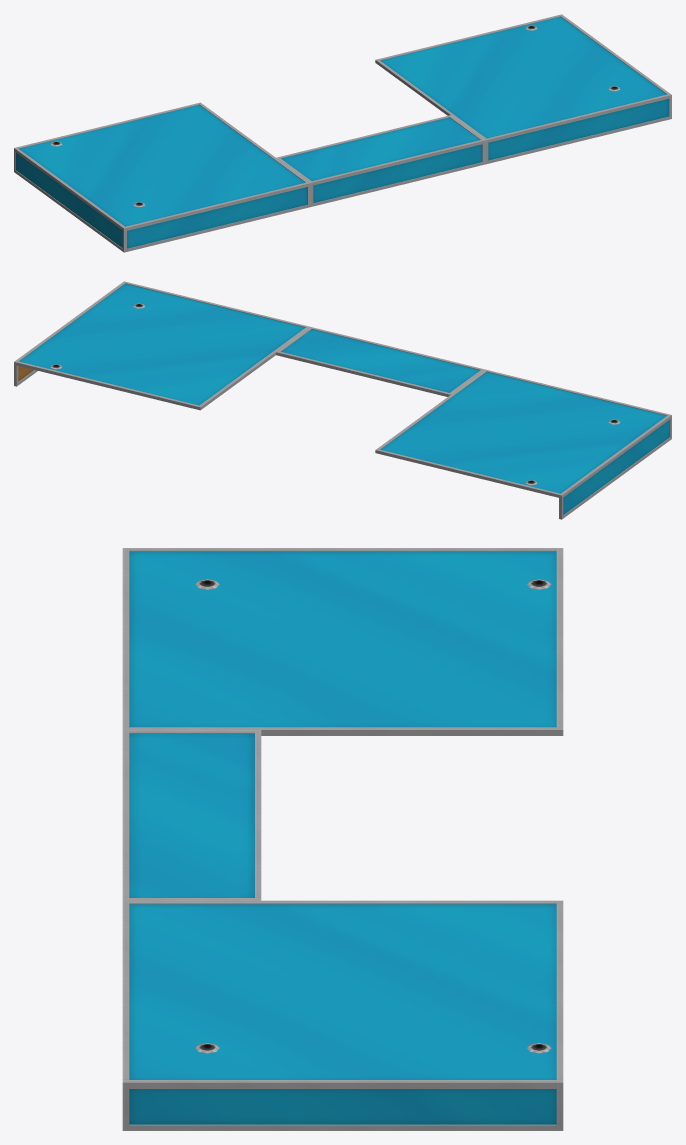
The model's file is jsf_4P_s03_c02_t02_DX.fbx.
3 renders of one model, top to bottom at view 1: azimuth 30°, elevation 25°; view 2: azimuth 150°, elevation 25°; view 3: azimuth 270°, elevation 25°, orthographic. The views are drawn at different scales.
Visible parts, largest first — view 1: jsf_4P_s03_c02_t02_DX; view 2: jsf_4P_s03_c02_t02_DX; view 3: jsf_4P_s03_c02_t02_DX.
Part boxes in pixels (x1,y1,x2,y2): jsf_4P_s03_c02_t02_DX: [14, 14, 671, 252]; jsf_4P_s03_c02_t02_DX: [14, 281, 671, 519]; jsf_4P_s03_c02_t02_DX: [122, 548, 563, 1130].
Size of the model in its own units: 298 by 12.99 by 104.
